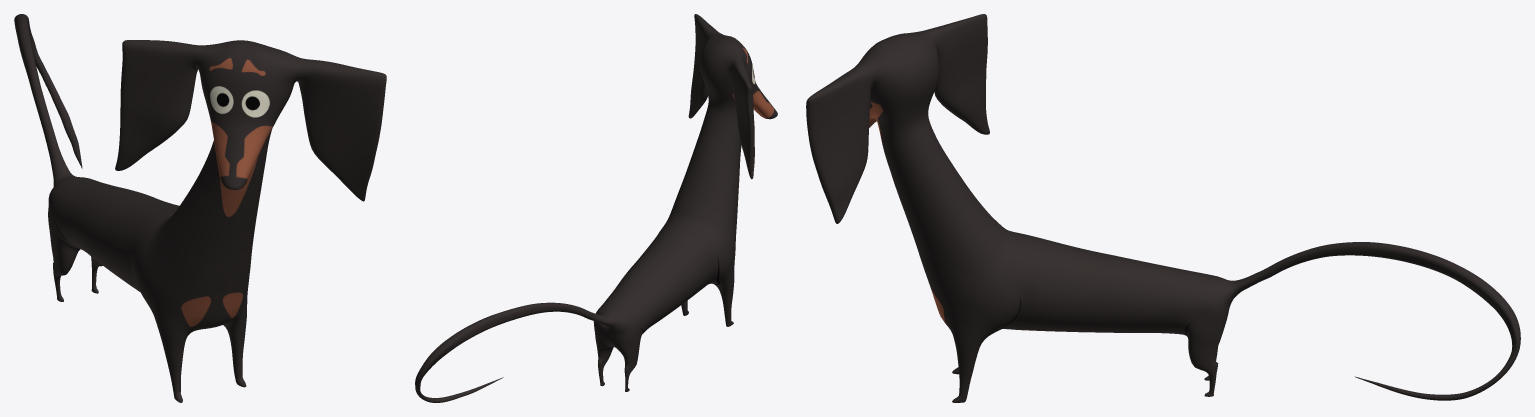
The model's file is Dachshund.glb.
The picture shows the model from 3 angles, left to right: view 1: azimuth 30°, elevation 25°; view 2: azimuth 150°, elevation 25°; view 3: azimuth 270°, elevation 25°; orthographic projection. The views are drawn at different scales.
Parts seen in each view (by area): view 1: dachshund.1; view 2: dachshund.1; view 3: dachshund.1.
Boxes of the visible parts, box(x1,y1,x2,y2) form: dachshund.1: box(14, 14, 386, 402); dachshund.1: box(415, 14, 777, 402); dachshund.1: box(806, 14, 1520, 402).
Bounding box in the file's own units: 0.0247 × 0.0424 × 0.0782.
1 material, 1 textured.
